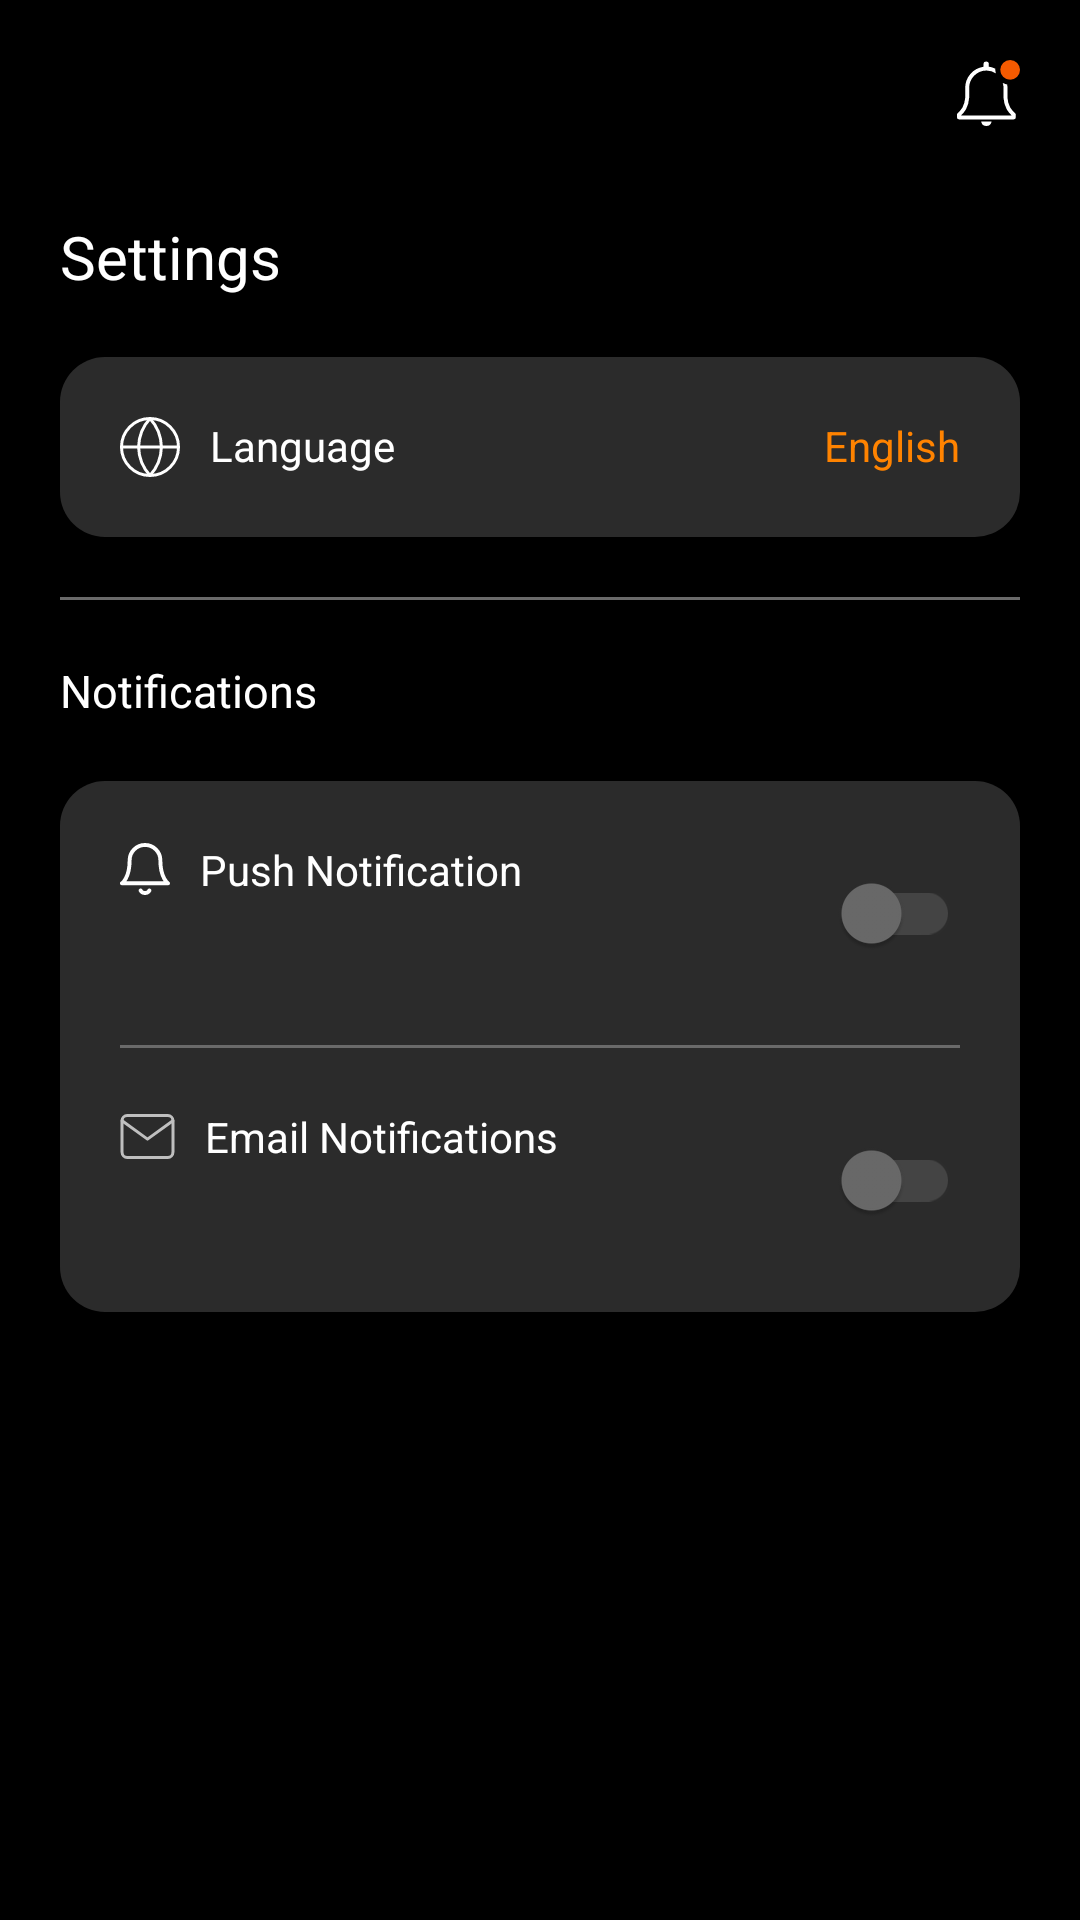

Where icons sit on this 1080*1920 app screen, as (left=x1, top=y1, right=x2, bottom=y2):
notifications: (left=957, top=60, right=1020, bottom=126)
